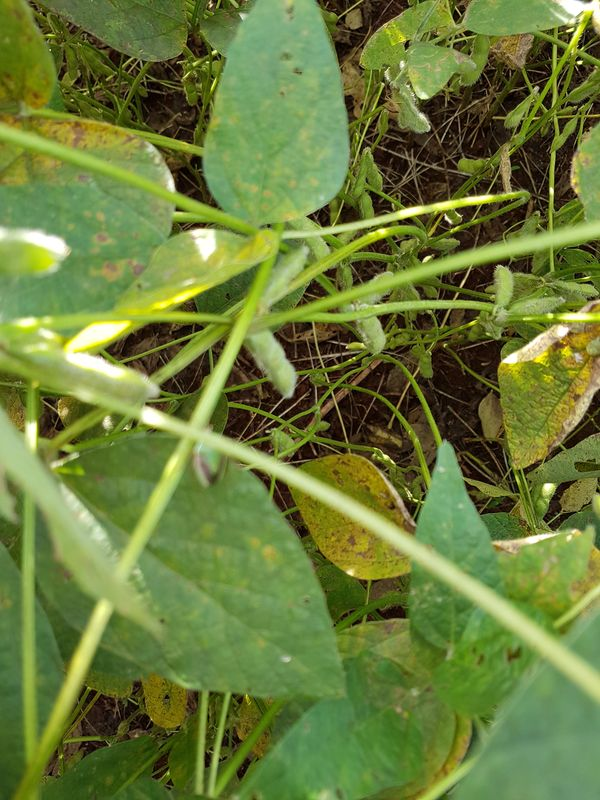Edessa_meditabunda: (180, 428, 236, 494)
